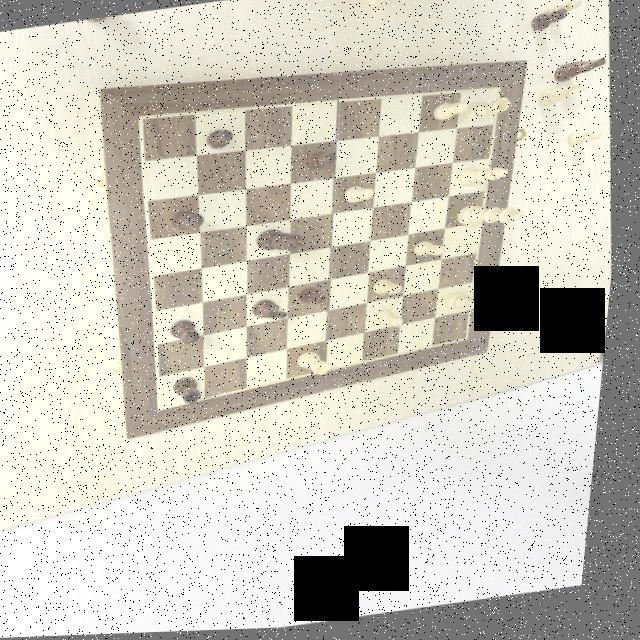chess-table-corners: (134, 110, 154, 126), (492, 86, 508, 97), (162, 404, 176, 414), (468, 336, 480, 347)
